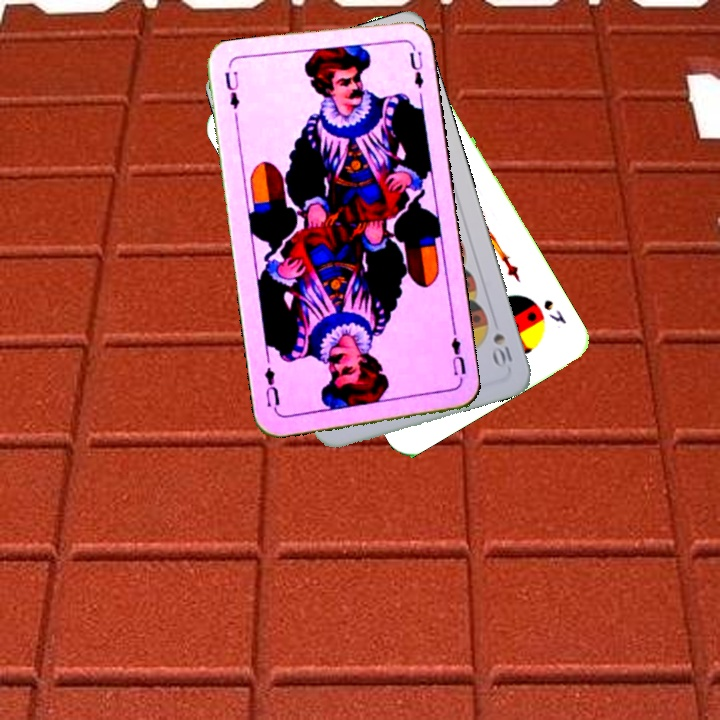EU: (447, 327, 469, 387), (220, 67, 242, 112)
S10: (488, 329, 515, 371)
SK: (539, 295, 569, 327)
